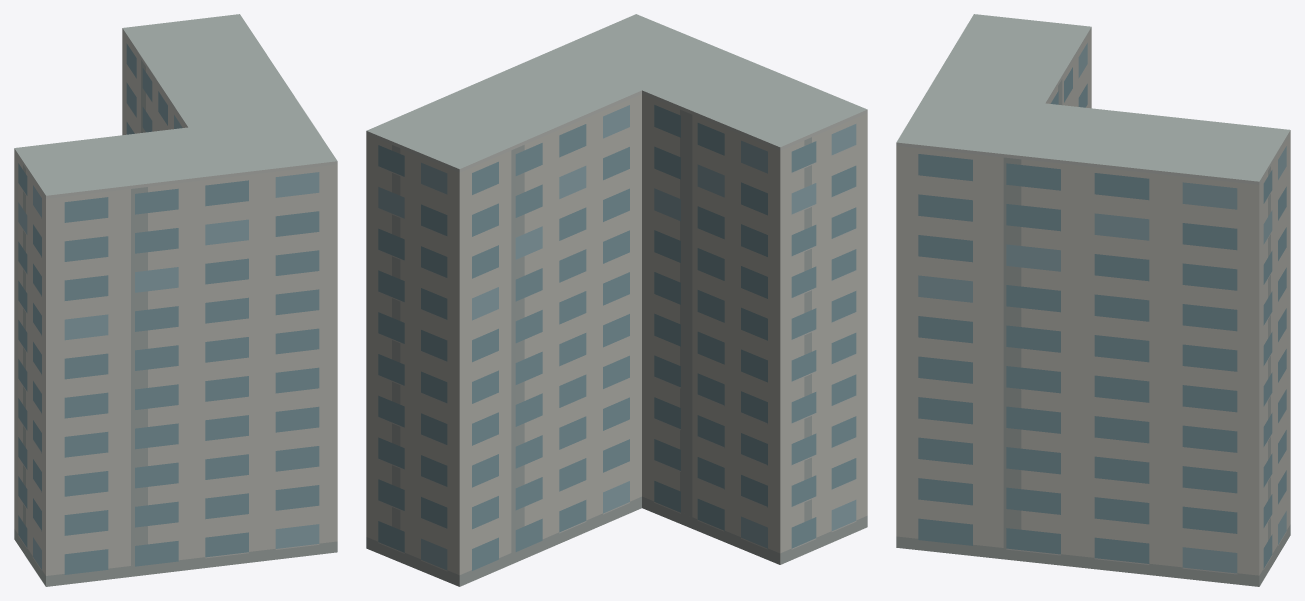
File: residential-65e711f9-113b-4189-aa57-1001e82e26f7.glb
The picture shows the model from 3 angles, left to right: view 1: azimuth 30°, elevation 25°; view 2: azimuth 150°, elevation 25°; view 3: azimuth 270°, elevation 25°; orthographic projection. The views are drawn at different scales.
Parts seen in each view (by area): view 1: residential-65e711f9-113b-4189-aa57-1001e82e26f7.tmp; view 2: residential-65e711f9-113b-4189-aa57-1001e82e26f7.tmp; view 3: residential-65e711f9-113b-4189-aa57-1001e82e26f7.tmp.
Part boxes in pixels (<box>): residential-65e711f9-113b-4189-aa57-1001e82e26f7.tmp: <box>14,14,337,586</box>; residential-65e711f9-113b-4189-aa57-1001e82e26f7.tmp: <box>366,14,867,586</box>; residential-65e711f9-113b-4189-aa57-1001e82e26f7.tmp: <box>896,14,1290,586</box>.
Bounding box in the file's own units: 25.74 × 29 × 25.58.
